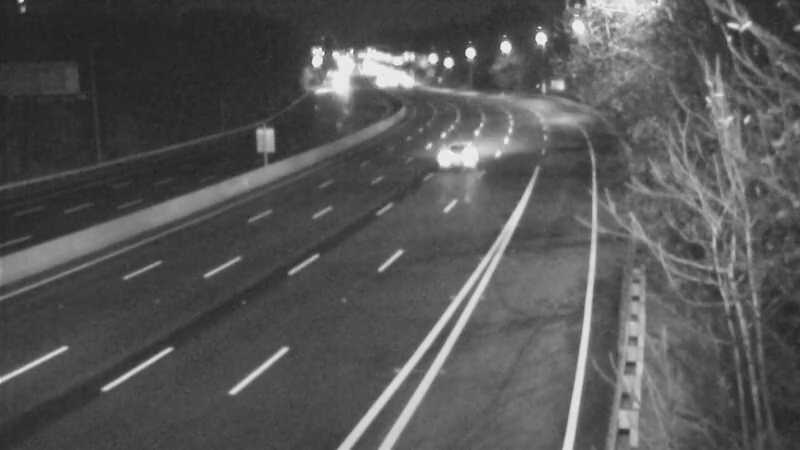vehicle: (437, 121, 487, 171)
